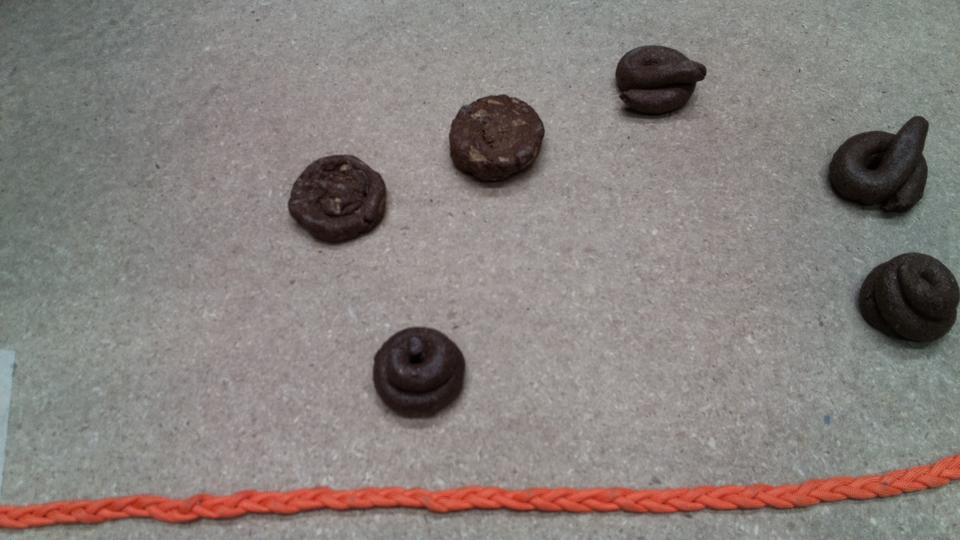poop: (824, 114, 947, 225), (280, 149, 394, 246), (851, 248, 960, 347), (446, 89, 546, 192), (371, 320, 468, 419), (610, 44, 710, 125)
rope: (2, 484, 932, 534), (769, 465, 960, 512)
